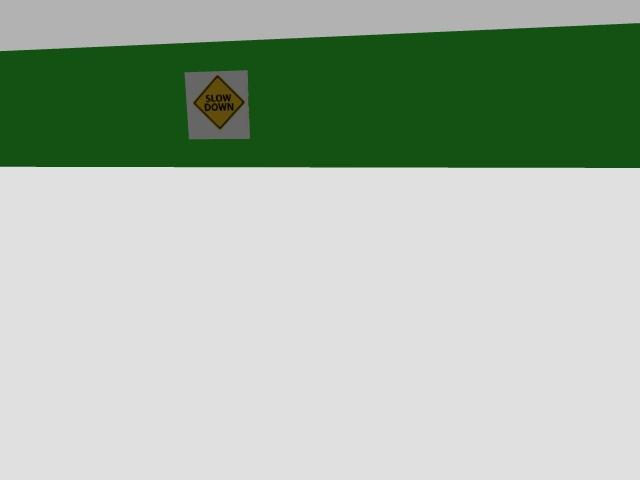slowsign: (184, 70, 249, 139)
